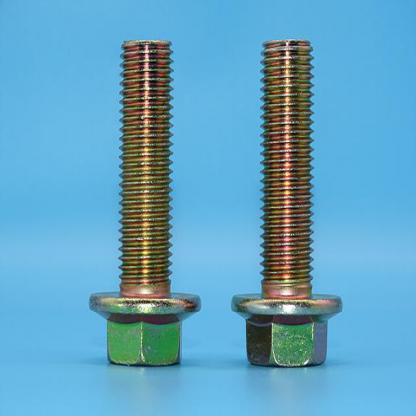FOD: (228, 32, 347, 372), (87, 35, 202, 367)
